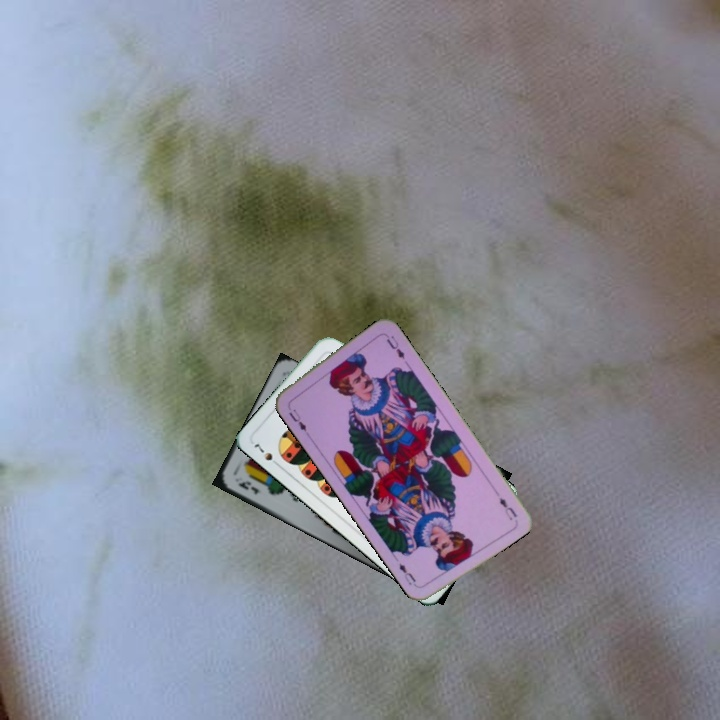EK: (234, 476, 262, 497)
EU: (285, 405, 309, 434), (495, 493, 519, 522)
S7: (250, 440, 283, 470)
